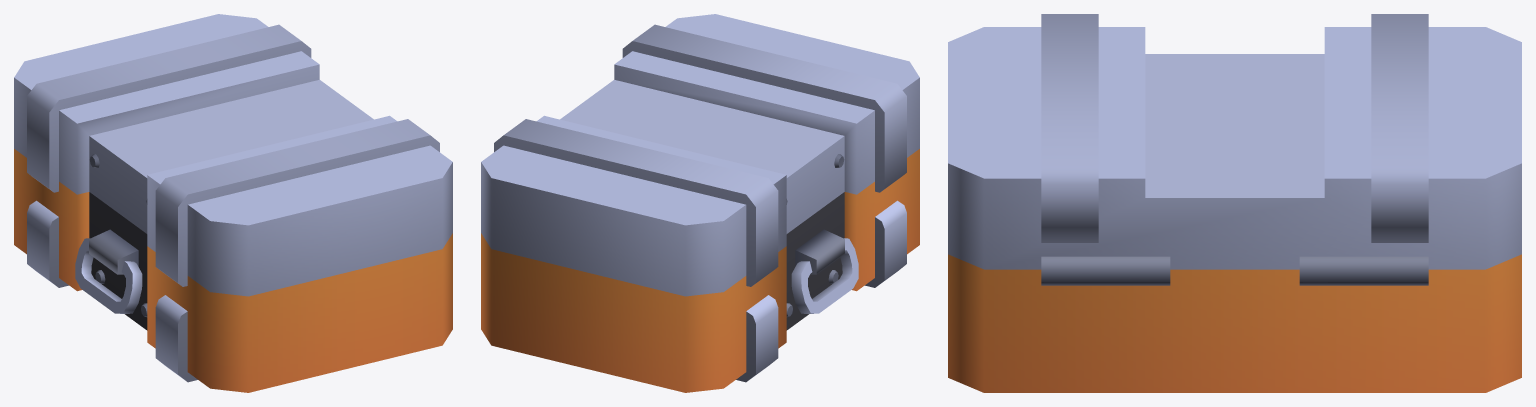
The model's file is ammo_rl.glb.
The picture shows the model from 3 angles, left to right: view 1: azimuth 30°, elevation 25°; view 2: azimuth 150°, elevation 25°; view 3: azimuth 270°, elevation 25°; orthographic projection. The views are drawn at different scales.
Parts seen in each view (by area): view 1: ammo_rl; view 2: ammo_rl; view 3: ammo_rl.
Boxes of the visible parts, x1,y1,x2,y2 form: ammo_rl: (14, 14, 452, 392); ammo_rl: (481, 14, 919, 392); ammo_rl: (948, 14, 1521, 392).
Size of the model in its own units: 0.3022 by 0.2035 by 0.44.
Materials: 1 (1 with a texture image).
